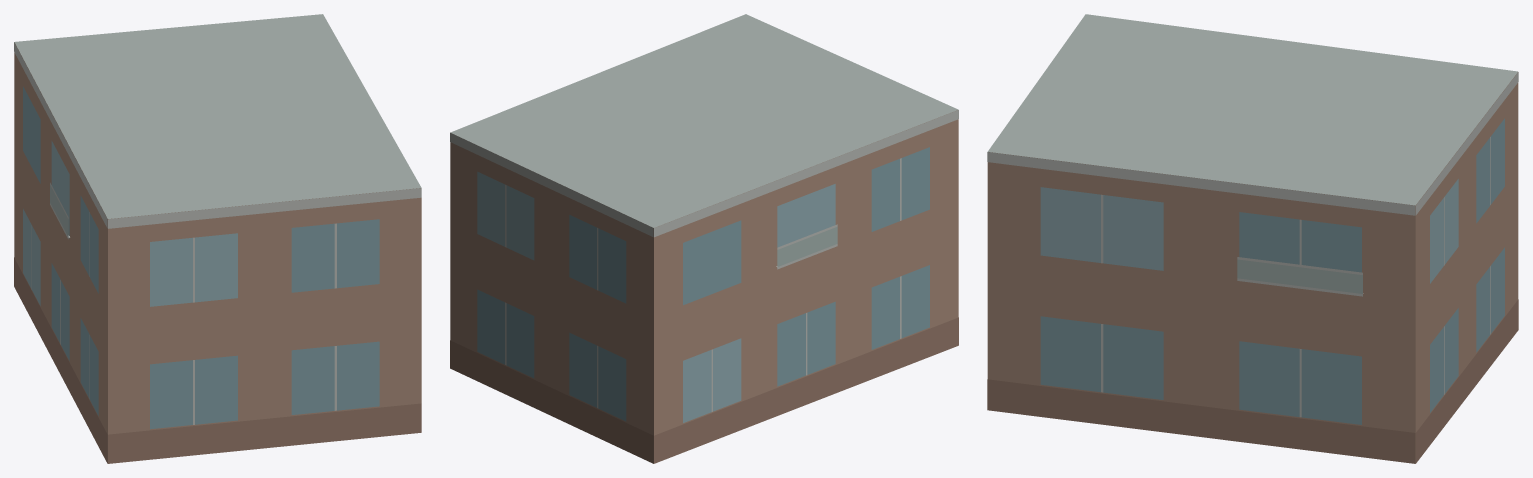
The model's file is survey-upis-32653759.glb.
3 views of the same model, side by side, from view 1: azimuth 30°, elevation 25°; view 2: azimuth 150°, elevation 25°; view 3: azimuth 270°, elevation 25° (orthographic). The views are drawn at different scales.
Visible parts, largest first — view 1: survey-upis-32653759.tmp; view 2: survey-upis-32653759.tmp; view 3: survey-upis-32653759.tmp.
Part boxes in pixels (left/top/right/bottom): survey-upis-32653759.tmp: left=14, top=14, right=421, bottom=463; survey-upis-32653759.tmp: left=450, top=14, right=958, bottom=463; survey-upis-32653759.tmp: left=987, top=14, right=1518, bottom=463.
Size of the model in its own units: 9.7 by 6.1 by 11.37.
